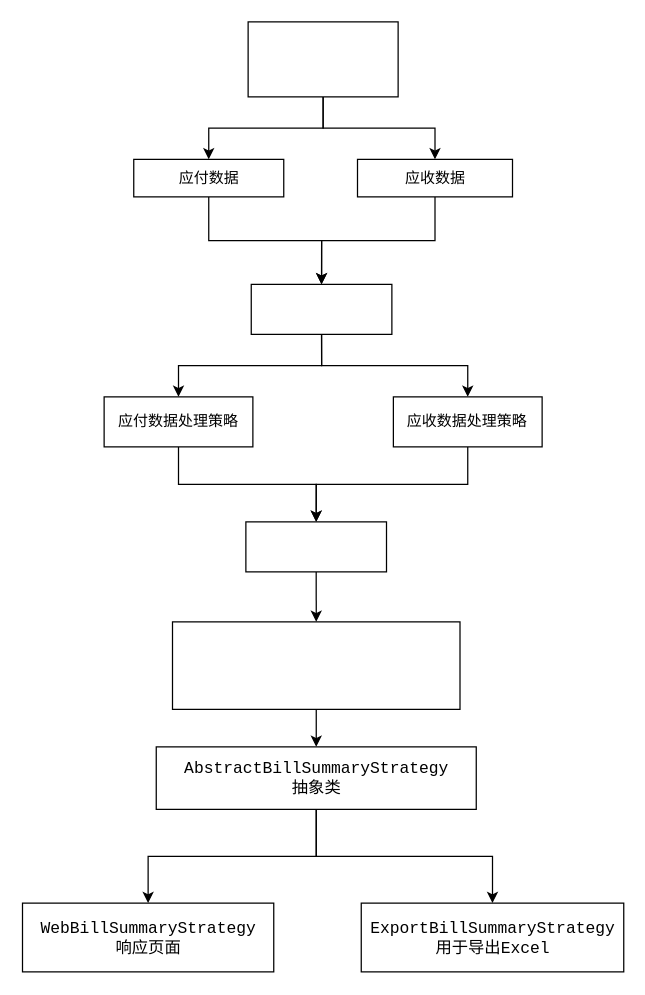
Some shapes in this 645 by 995 pixel diagram are drawn without their labels. Here are the shapes that lost their labels. From the top down, the centre of each, then its label:
At pixel 322 59: "web 获取数据".
At pixel 321 308: "数据处理".
At pixel 315 546: "通用处理数据".
At pixel 315 665: "BillSummaryStrategy 票据汇总策略 -> 接口".
